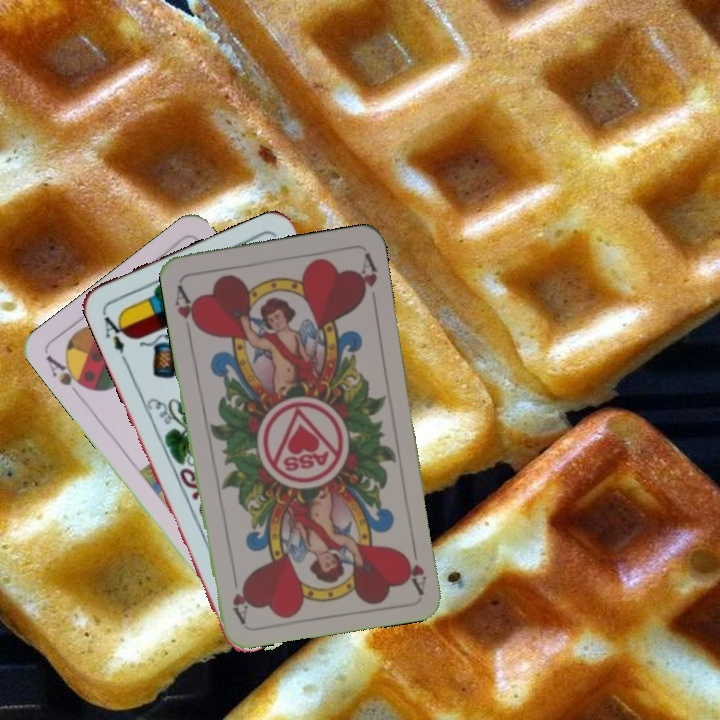EA: (98, 307, 131, 356)
HA: (399, 535, 430, 595), (171, 281, 202, 338)
SA: (41, 350, 92, 393)
